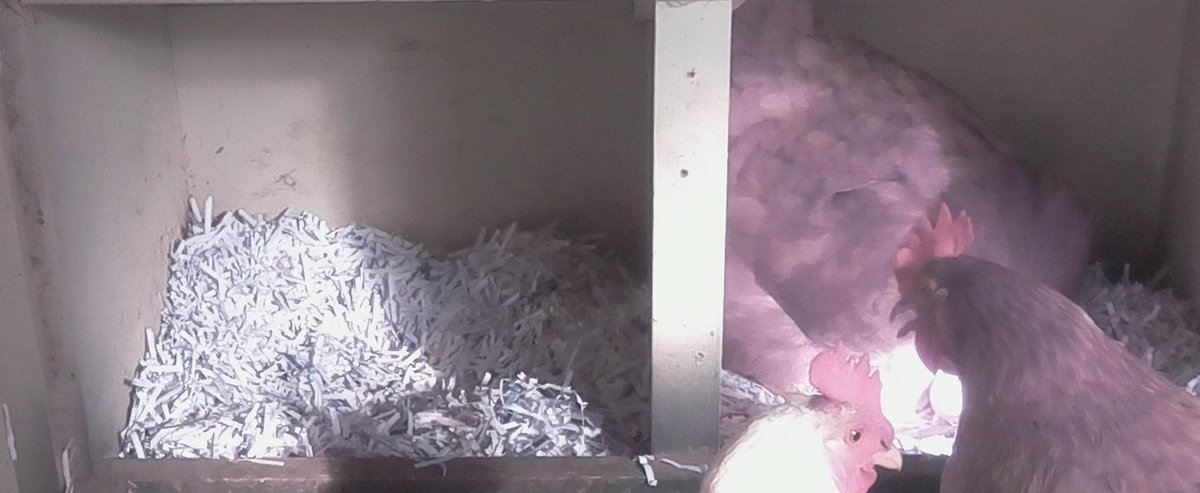hen: (732, 9, 1097, 398), (886, 198, 1199, 493), (699, 344, 911, 493)
